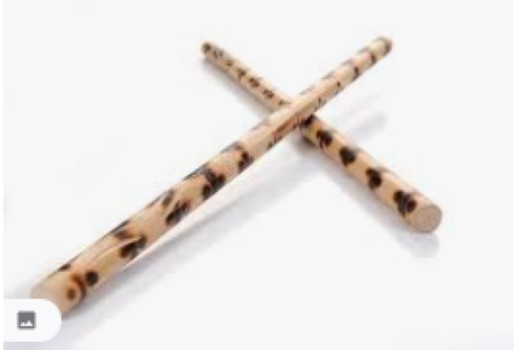baston_e: (81, 52, 369, 315), (215, 41, 378, 230)
baston_v: (20, 274, 90, 328), (399, 194, 447, 242), (371, 27, 397, 60), (194, 30, 214, 60)
